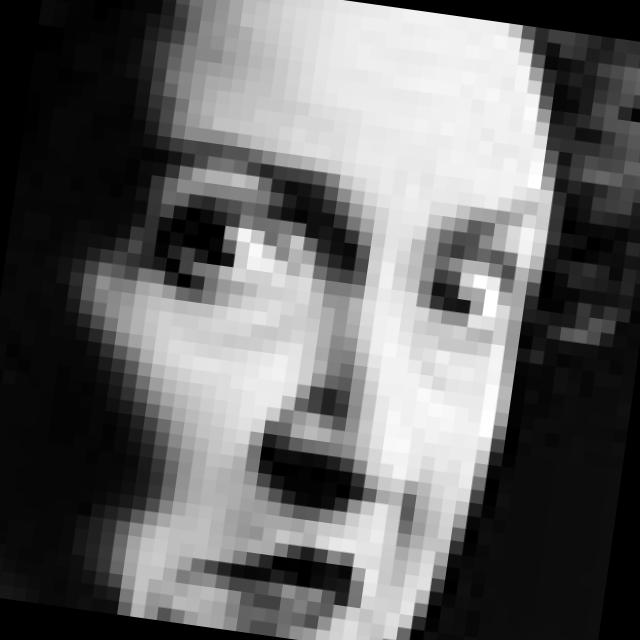disgust: (82, 119, 543, 640)
